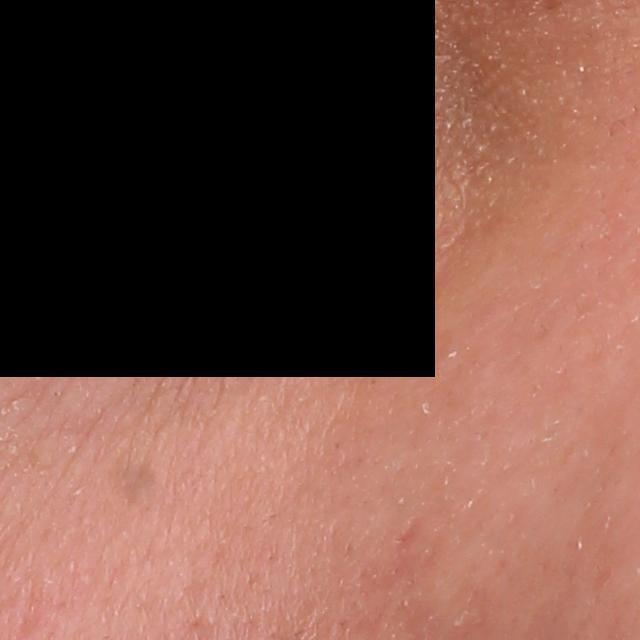other: (108, 447, 161, 502)
